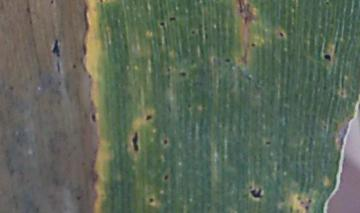tarspot: (50, 39, 61, 57), (249, 185, 264, 198), (131, 131, 139, 153), (88, 110, 98, 123), (322, 53, 333, 61), (178, 70, 187, 77), (338, 88, 345, 97), (145, 114, 153, 121), (159, 20, 166, 28), (71, 63, 78, 70), (162, 138, 169, 145), (148, 196, 155, 203), (169, 15, 176, 22), (250, 40, 256, 48), (279, 31, 285, 39), (163, 174, 169, 181), (224, 57, 231, 63), (264, 140, 271, 145), (304, 205, 309, 212), (191, 29, 196, 35), (307, 198, 312, 204), (99, 1, 105, 4), (50, 1, 54, 5)
